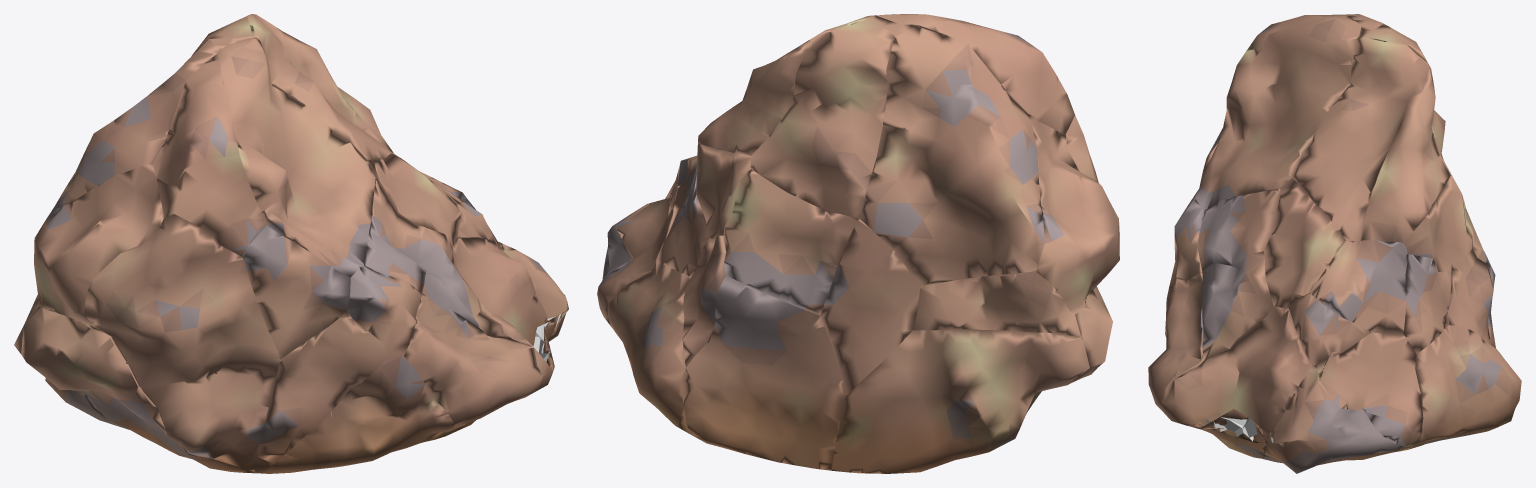
Rendered from iron_rock_crumbs.glb.
3 renders of one model, left to right at view 1: azimuth 30°, elevation 25°; view 2: azimuth 150°, elevation 25°; view 3: azimuth 270°, elevation 25°, orthographic. The views are drawn at different scales.
Visible parts, largest first — view 1: Crumb_12_c18, Crumb_10_c03, Crumb_12_c05, Crumb_12_c01, Crumb_12_c09, Crumb_12_c06, Crumb_07_c06, Crumb_25_c13, Crumb_20_c08, Crumb_12_c20, Crumb_25_c09, Crumb_12_c25 (+106 smaller); view 2: Crumb_01_c11, Crumb_01_c16, Crumb_03_c01, Crumb_27_c02, Crumb_22_c08, Crumb_22_c20, Crumb_01_c05, Crumb_09_c01, Crumb_22_c15, Crumb_27_c03, Crumb_27_c05, Crumb_01_c21 (+164 smaller); view 3: Crumb_28_c17, Crumb_29_c01, Crumb_29_c02, Crumb_05_c03, Crumb_00_c02, Crumb_13_c05, Crumb_29_c19, Crumb_00_c05, Crumb_08_c06, Crumb_26_c01, Crumb_29_c21, Crumb_03_c07 (+145 smaller).
Part boxes in pixels (x1=…): Crumb_12_c18: x1=139, y1=310, x2=190, y2=359; Crumb_10_c03: x1=455, y1=369, x2=501, y2=420; Crumb_12_c05: x1=159, y1=405, x2=208, y2=450; Crumb_12_c01: x1=204, y1=275, x2=249, y2=318; Crumb_12_c09: x1=182, y1=300, x2=226, y2=347; Crumb_12_c06: x1=119, y1=284, x2=166, y2=331; Crumb_07_c06: x1=261, y1=394, x2=300, y2=440; Crumb_25_c13: x1=185, y1=105, x2=233, y2=140; Crumb_20_c08: x1=242, y1=225, x2=282, y2=269; Crumb_12_c20: x1=205, y1=399, x2=241, y2=438; Crumb_25_c09: x1=228, y1=184, x2=266, y2=231; Crumb_12_c25: x1=140, y1=225, x2=179, y2=271; Crumb_01_c11: x1=943, y1=366, x2=994, y2=411; Crumb_01_c16: x1=937, y1=329, x2=986, y2=370; Crumb_03_c01: x1=641, y1=352, x2=684, y2=397; Crumb_27_c02: x1=841, y1=36, x2=891, y2=79; Crumb_22_c08: x1=949, y1=148, x2=989, y2=198; Crumb_22_c20: x1=886, y1=48, x2=925, y2=95; Crumb_01_c05: x1=977, y1=385, x2=1018, y2=435; Crumb_09_c01: x1=913, y1=288, x2=963, y2=330; Crumb_22_c15: x1=896, y1=201, x2=939, y2=246; Crumb_27_c03: x1=833, y1=139, x2=879, y2=180; Crumb_27_c05: x1=796, y1=30, x2=841, y2=79; Crumb_01_c21: x1=1024, y1=348, x2=1077, y2=384; Crumb_28_c17: x1=1226, y1=73, x2=1265, y2=121; Crumb_29_c01: x1=1381, y1=160, x2=1425, y2=198; Crumb_29_c02: x1=1394, y1=116, x2=1431, y2=160; Crumb_05_c03: x1=1204, y1=355, x2=1239, y2=398; Crumb_00_c02: x1=1317, y1=422, x2=1354, y2=463; Crumb_13_c05: x1=1300, y1=305, x2=1340, y2=340; Crumb_29_c19: x1=1353, y1=35, x2=1388, y2=74; Crumb_00_c05: x1=1281, y1=420, x2=1323, y2=457; Crumb_08_c06: x1=1386, y1=405, x2=1423, y2=446; Crumb_26_c01: x1=1306, y1=229, x2=1345, y2=264; Crumb_29_c21: x1=1394, y1=192, x2=1431, y2=231; Crumb_03_c07: x1=1445, y1=349, x2=1479, y2=385.
Size of the model in its own units: 3.24 by 2.37 by 2.24.
